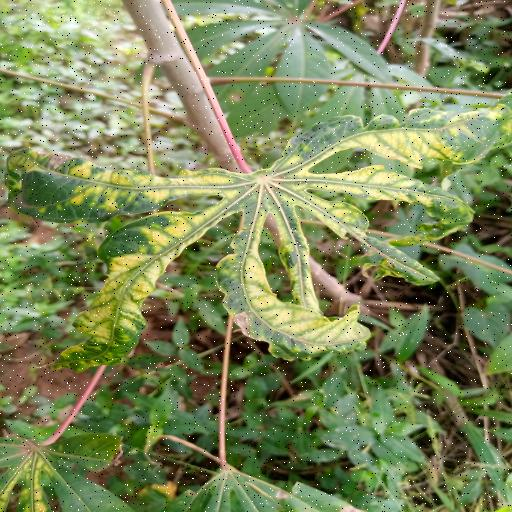Cassava_Mosaic: (0, 102, 512, 375)
